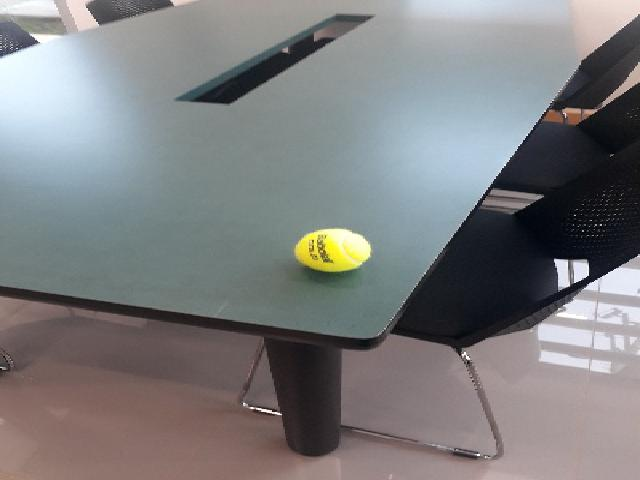Ball: (293, 229, 371, 274)
